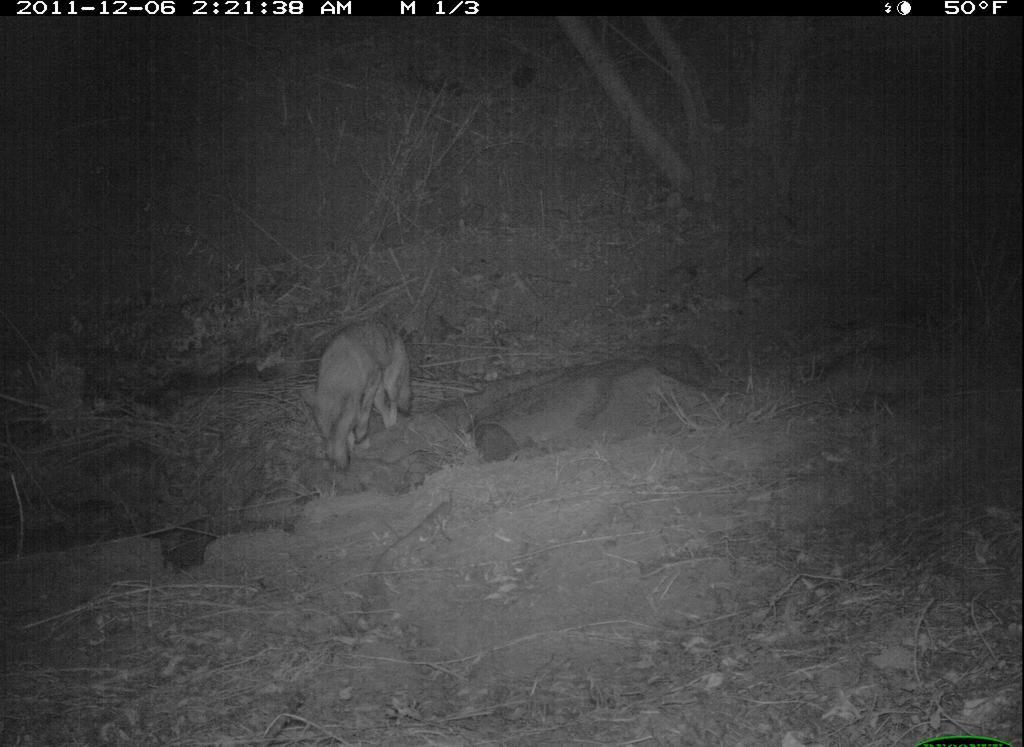coyote: (295, 312, 426, 485)
